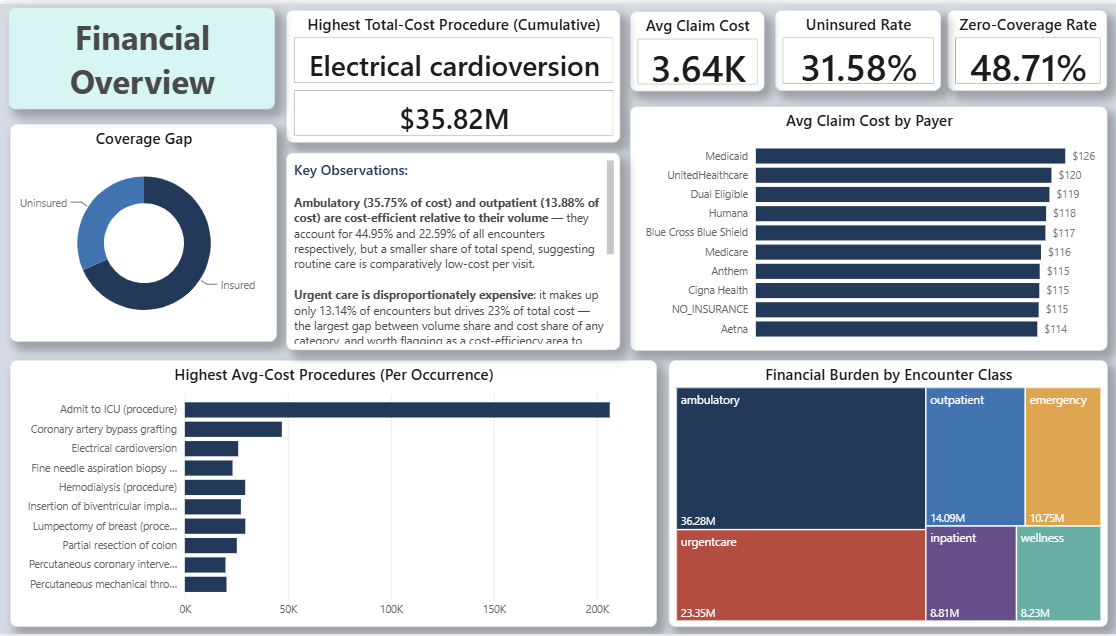

This screenshot's page, from the dashboard's own definition file:
{"tool":"powerbi","page":{"name":"Financial","canvas":[1280,720],"ordinal":1},"visuals":[{"type":"cardVisual","title":"Zero-Coverage Rate","fields":{"Data":["encounters.Zero Coverage %"]},"box":[1082.5,7.5,182.7,92],"z":0},{"type":"cardVisual","title":"Uninsured Rate","fields":{"Data":["encounters.Uninsured %"]},"box":[885,7.5,189.3,92],"z":1000},{"type":"cardVisual","title":"Avg Claim Cost","fields":{"Data":["encounters.Avg Claim Cost"]},"box":[719.5,9.1,153.2,90.9],"z":2000},{"type":"cardVisual","title":"Highest Total-Cost Procedure (Cumulative)","fields":{"Data":["encounters.Top Cost Driver","encounters.Top Cost Driver Amount"]},"box":[327.5,7.5,381.9,151.4],"z":3000},{"type":"clusteredBarChart","title":"Avg Claim Cost by Payer","fields":{"Category":["payers.NAME"],"Y":["encounters.Avg Claim"]},"box":[719.5,116.9,545.5,279.2],"z":4000},{"type":"donutChart","title":"Coverage Gap","fields":{"Category":["encounters.Coverage Type"],"Y":["encounters.Encounter Count"]},"box":[10.9,137.5,304.7,248.4],"z":5000},{"type":"barChart","title":"Highest Avg-Cost Procedures (Per Occurrence)","fields":{"Category":["procedures.DESCRIPTION"],"Y":["encounters.Avg Procedure Cost"]},"box":[11.7,406.5,739,305.2],"z":6000},{"type":"textbox","box":[10.7,4,304,116],"z":7000},{"type":"treemap","title":"Financial Burden by Encounter Class","fields":{"Group":["encounters.ENCOUNTERCLASS"],"Values":["encounters.Total Claims Cost"]},"box":[764.9,406.5,501.3,305.2],"z":8000},{"type":"textbox","box":[327.3,170.1,381.8,226],"z":9000}]}

Visuals, with their boxes in screenshot pixels (x1, y1, x2, y2), scaled from the page's 1280x720 canvas onto the 1116x636 screenshot:
"Zero-Coverage Rate" cardVisual: <bbox>944, 7, 1103, 88</bbox>
"Uninsured Rate" cardVisual: <bbox>772, 7, 937, 88</bbox>
"Avg Claim Cost" cardVisual: <bbox>627, 8, 761, 88</bbox>
"Highest Total-Cost Procedure (Cumulative)" cardVisual: <bbox>286, 7, 619, 140</bbox>
"Avg Claim Cost by Payer" clusteredBarChart: <bbox>627, 103, 1103, 350</bbox>
"Coverage Gap" donutChart: <bbox>10, 121, 275, 341</bbox>
"Highest Avg-Cost Procedures (Per Occurrence)" barChart: <bbox>10, 359, 655, 629</bbox>
textbox: <bbox>9, 4, 274, 106</bbox>
"Financial Burden by Encounter Class" treemap: <bbox>667, 359, 1104, 629</bbox>
textbox: <bbox>285, 150, 618, 350</bbox>
